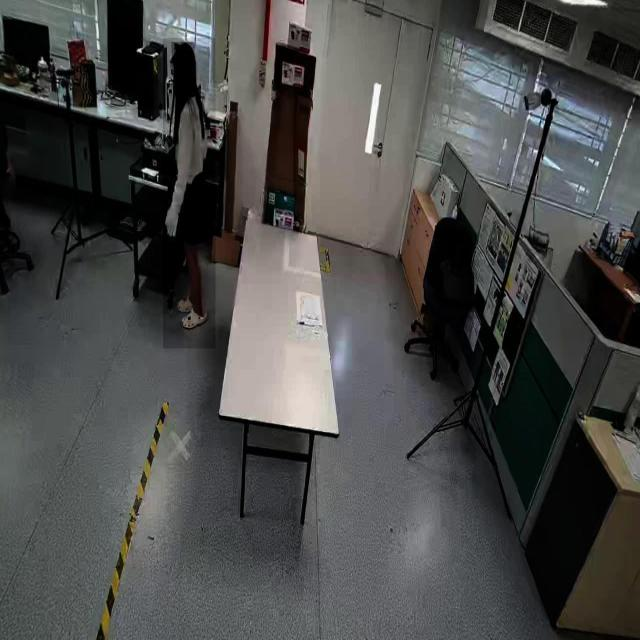hand_glove: (163, 204, 183, 244)
head_nohelmet: (171, 42, 195, 64)
person: (163, 38, 216, 350)
